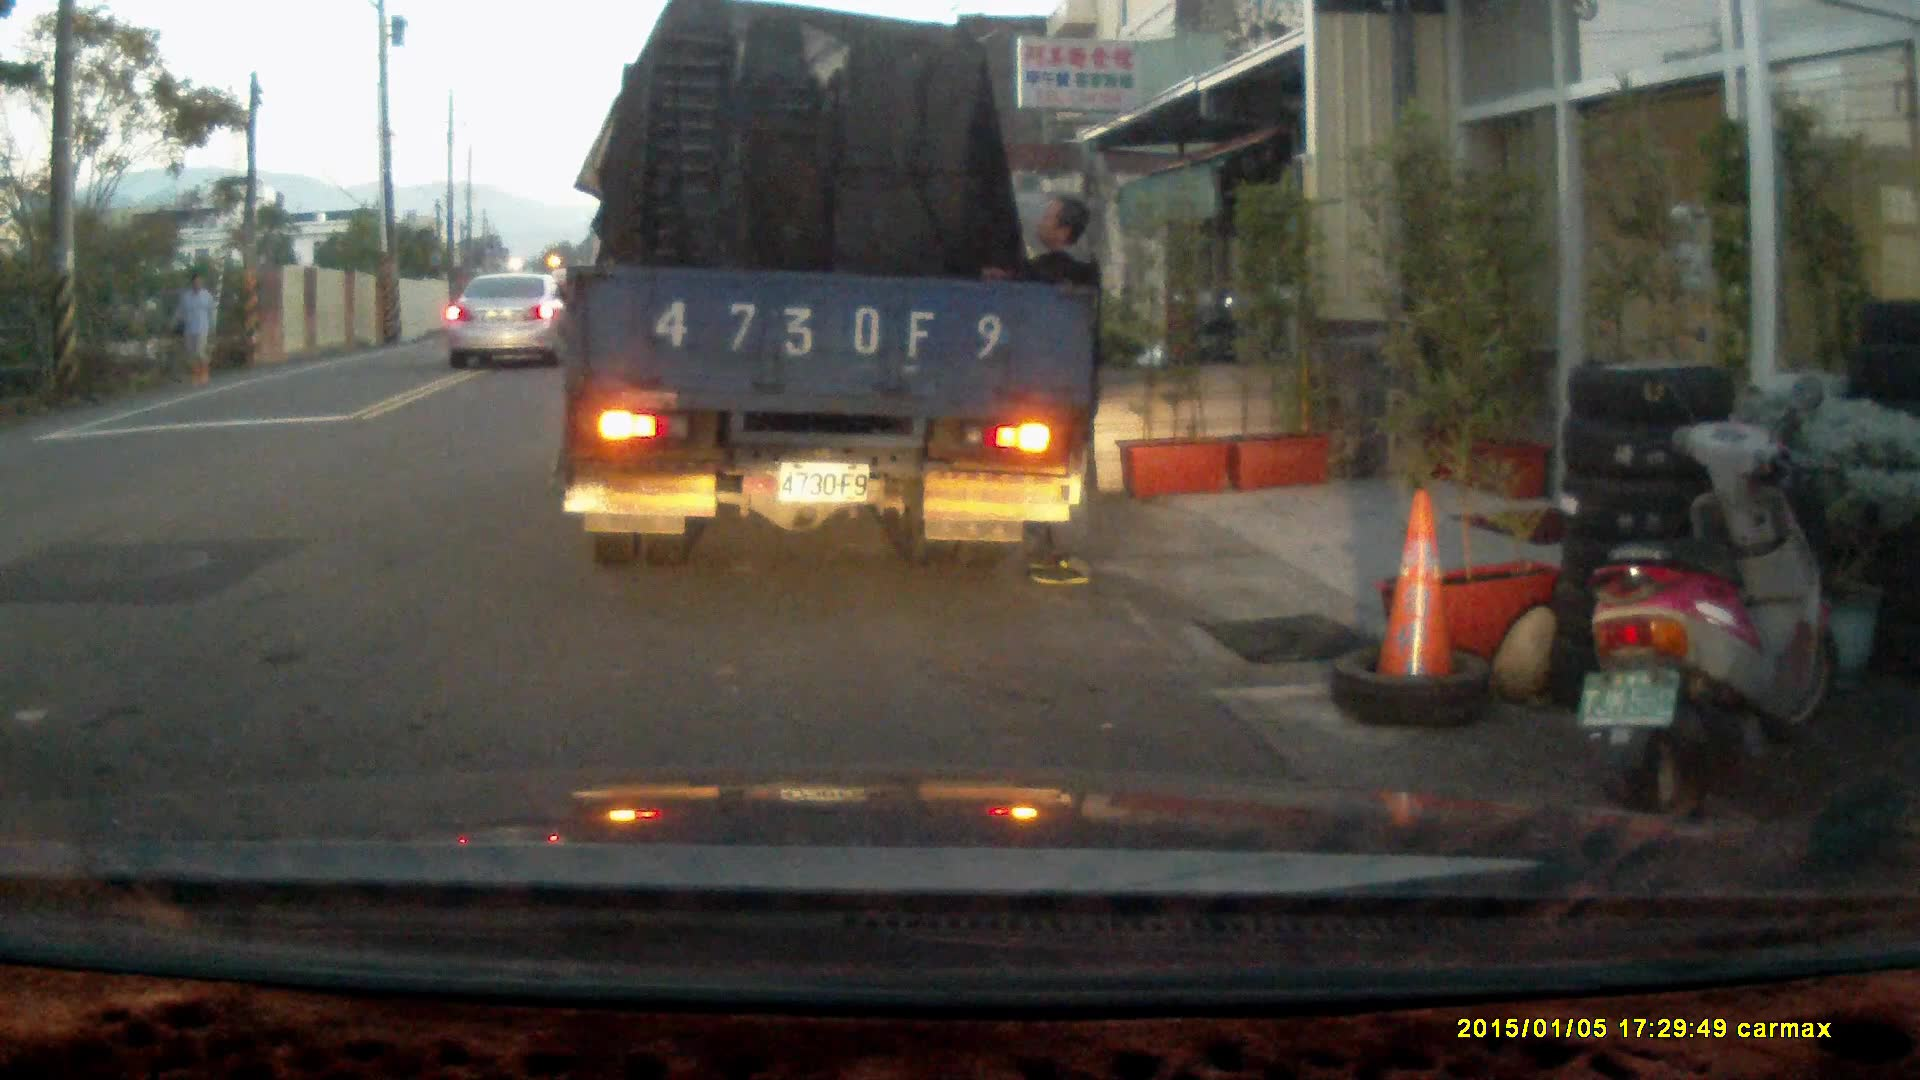pedestrian: (968, 194, 1102, 587), (173, 271, 220, 389)
vehicle: (565, 23, 1097, 572), (445, 268, 587, 370)
